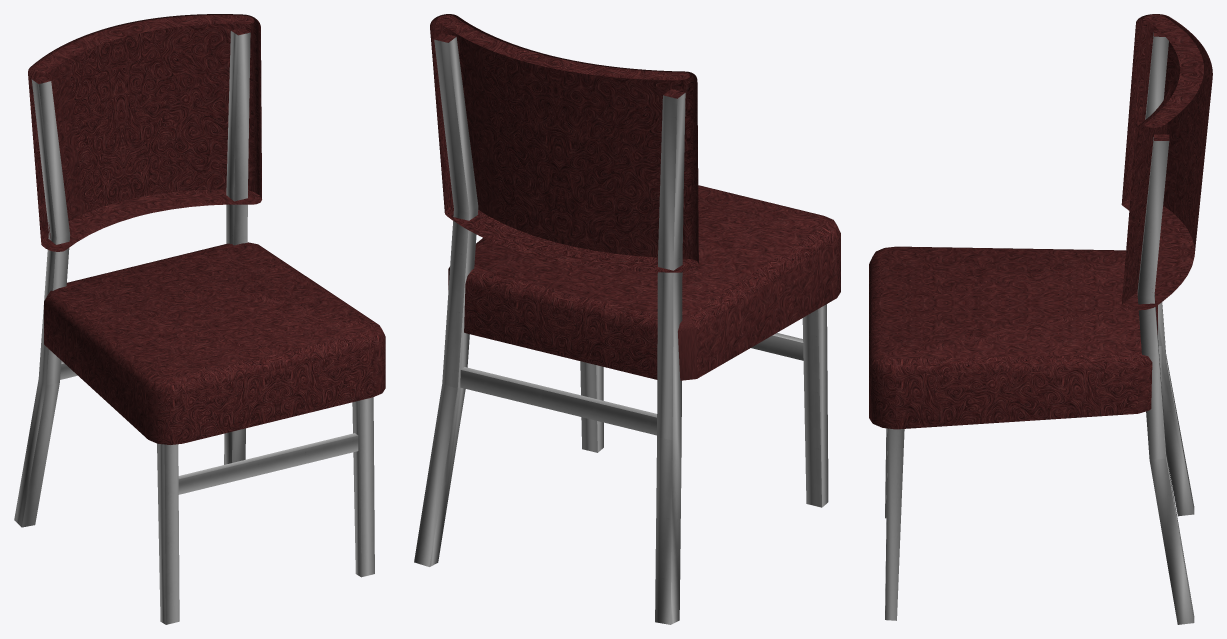
Rendered from diningChair.fbx.
3 renders of one model, left to right at view 1: azimuth 30°, elevation 25°; view 2: azimuth 150°, elevation 25°; view 3: azimuth 270°, elevation 25°, orthographic. The views are drawn at different scales.
Visible parts, largest first — view 1: dining_chair:polySurface1; view 2: dining_chair:polySurface1; view 3: dining_chair:polySurface1.
Boxes of the visible parts, bbox=[...] form: dining_chair:polySurface1: bbox=[14, 14, 385, 624]; dining_chair:polySurface1: bbox=[414, 14, 840, 624]; dining_chair:polySurface1: bbox=[869, 14, 1212, 624].
Bounding box in the file's own units: 19.75 × 37.57 × 23.49.
Materials: 2 (2 with a texture image).
